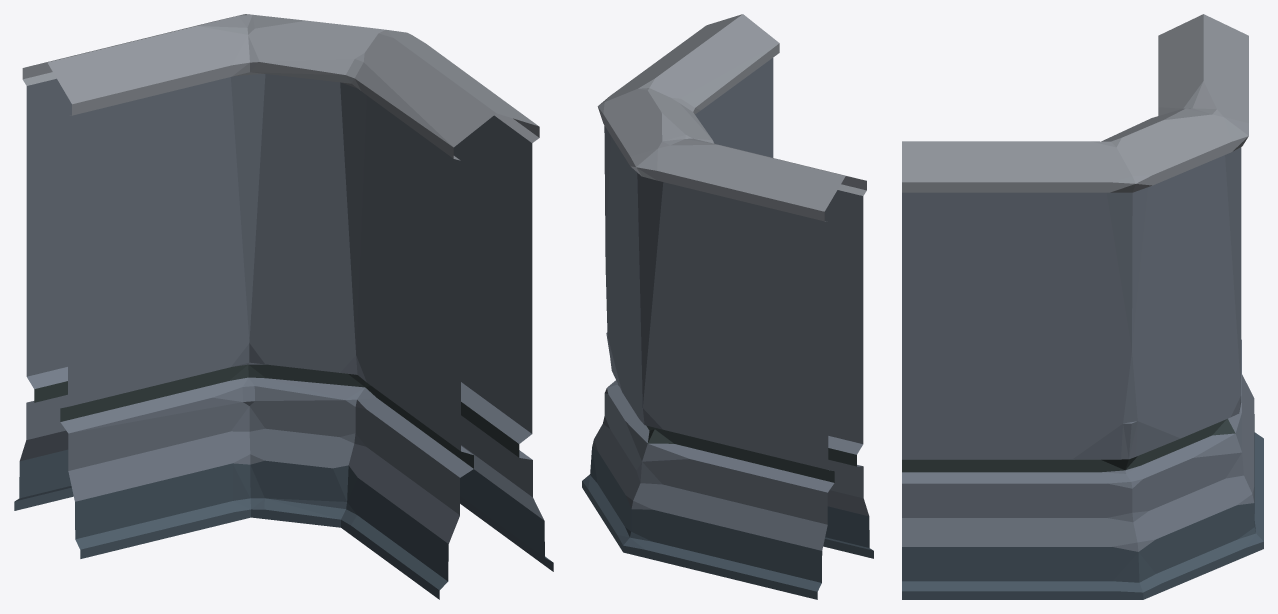
Rendered from BevelCorner1.fbx.
3 renders of one model, left to right at view 1: azimuth 30°, elevation 25°; view 2: azimuth 150°, elevation 25°; view 3: azimuth 270°, elevation 25°, orthographic. The views are drawn at different scales.
Parts seen in each view (by area): view 1: BevelCorner1; view 2: BevelCorner1; view 3: BevelCorner1.
Part boxes in pixels (x1,y1,x2,y2): BevelCorner1: (14, 14, 553, 599); BevelCorner1: (582, 14, 873, 599); BevelCorner1: (902, 14, 1263, 599).
Bounding box in the file's own units: 360 × 476 × 360.
